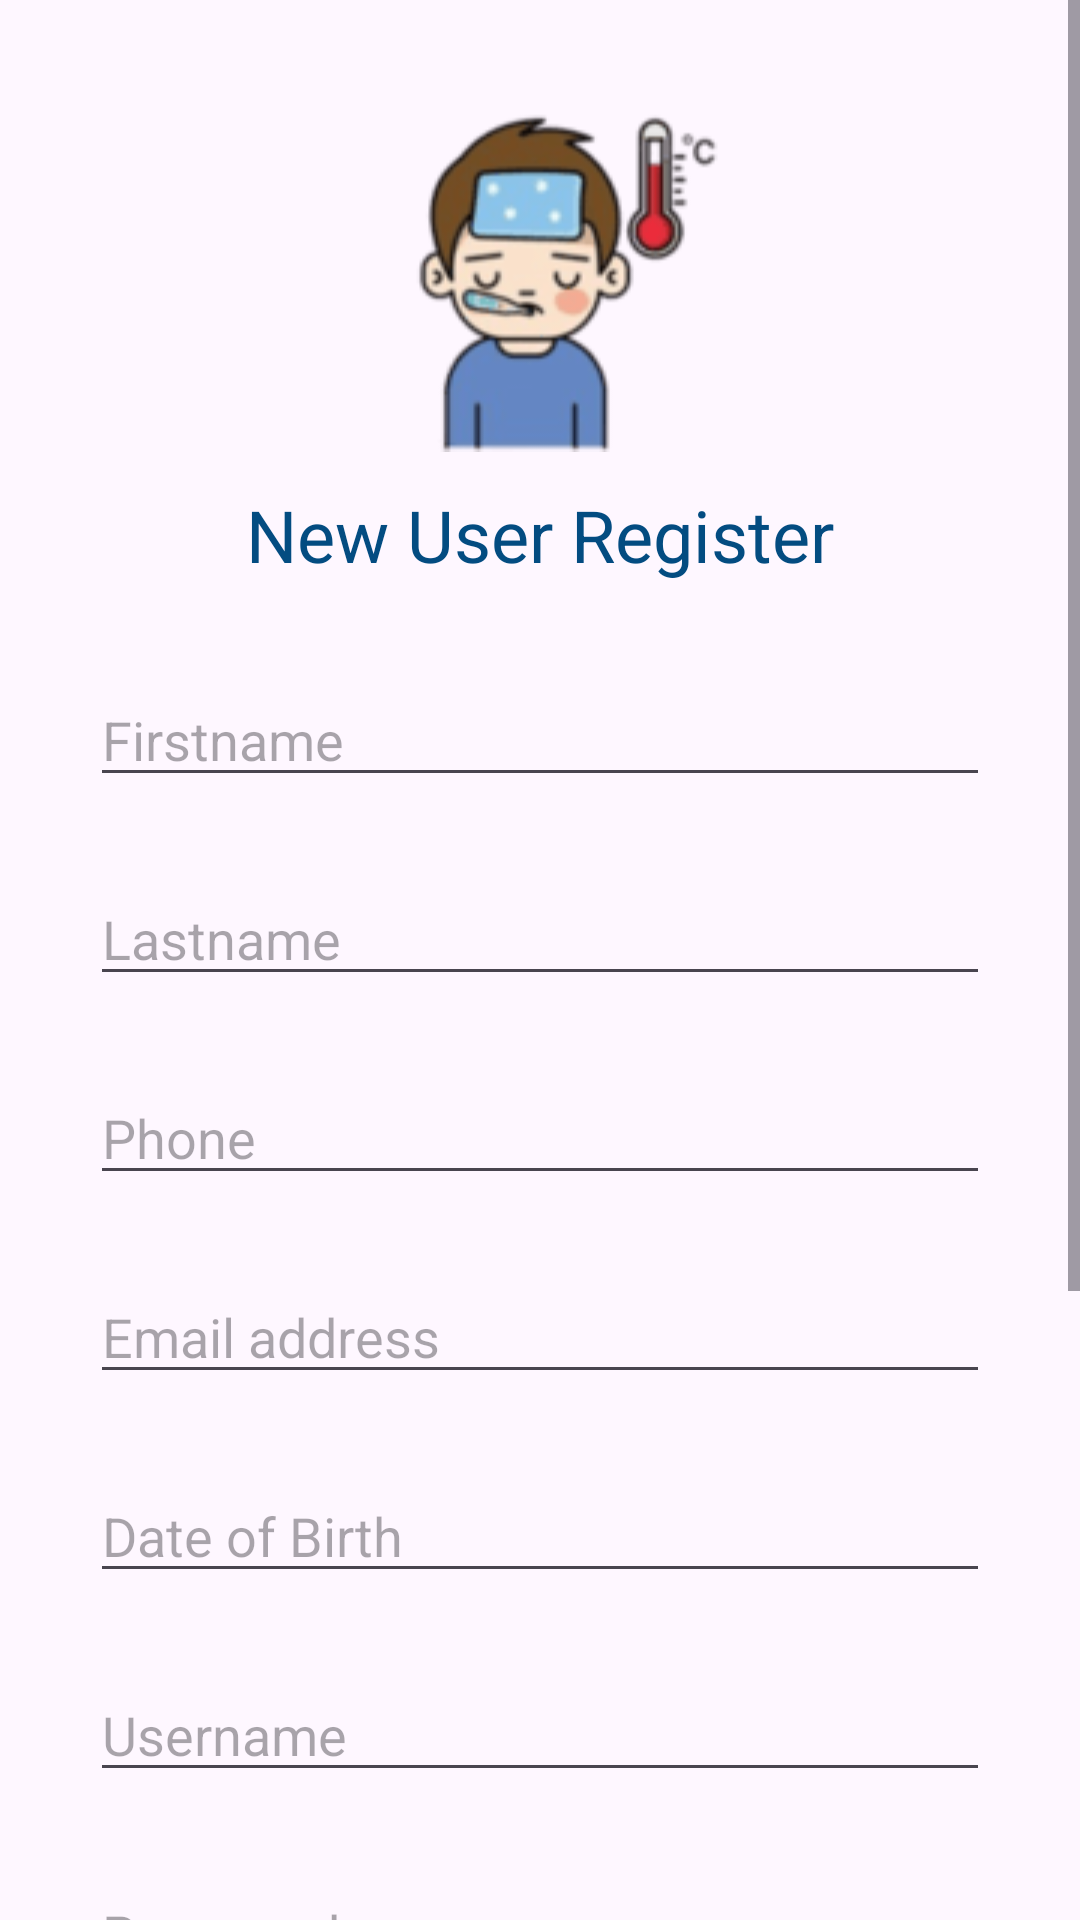

Locate icon controls on the screen. Image size 1080 x 1920, boxes as (x1, y1, x2, y2).
patient: (419, 117, 715, 452)
